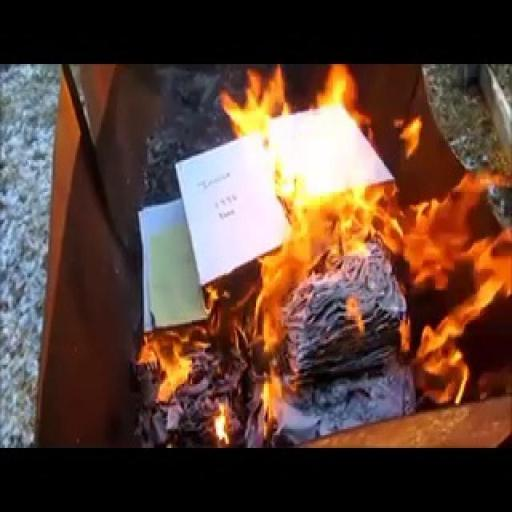smoke: (234, 62, 457, 354), (129, 316, 207, 426)
